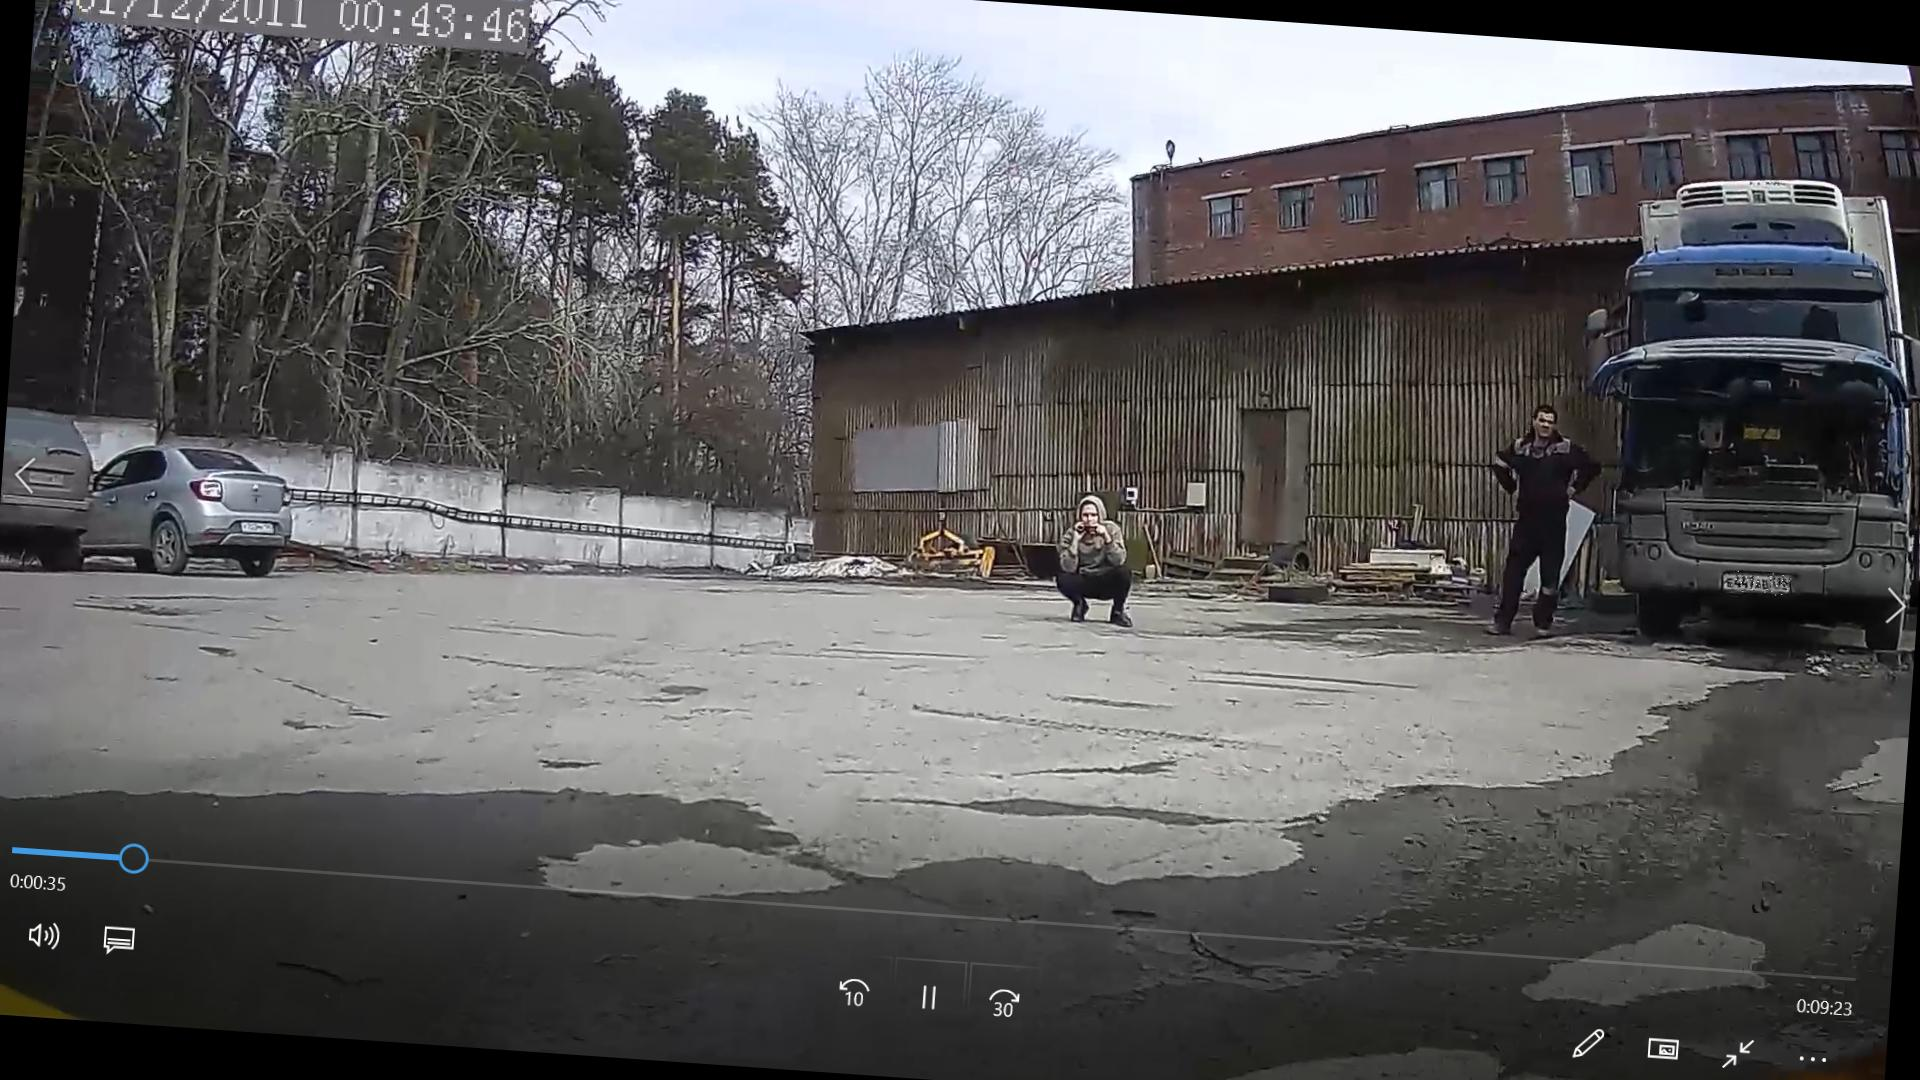plate: (1725, 571, 1793, 598)
